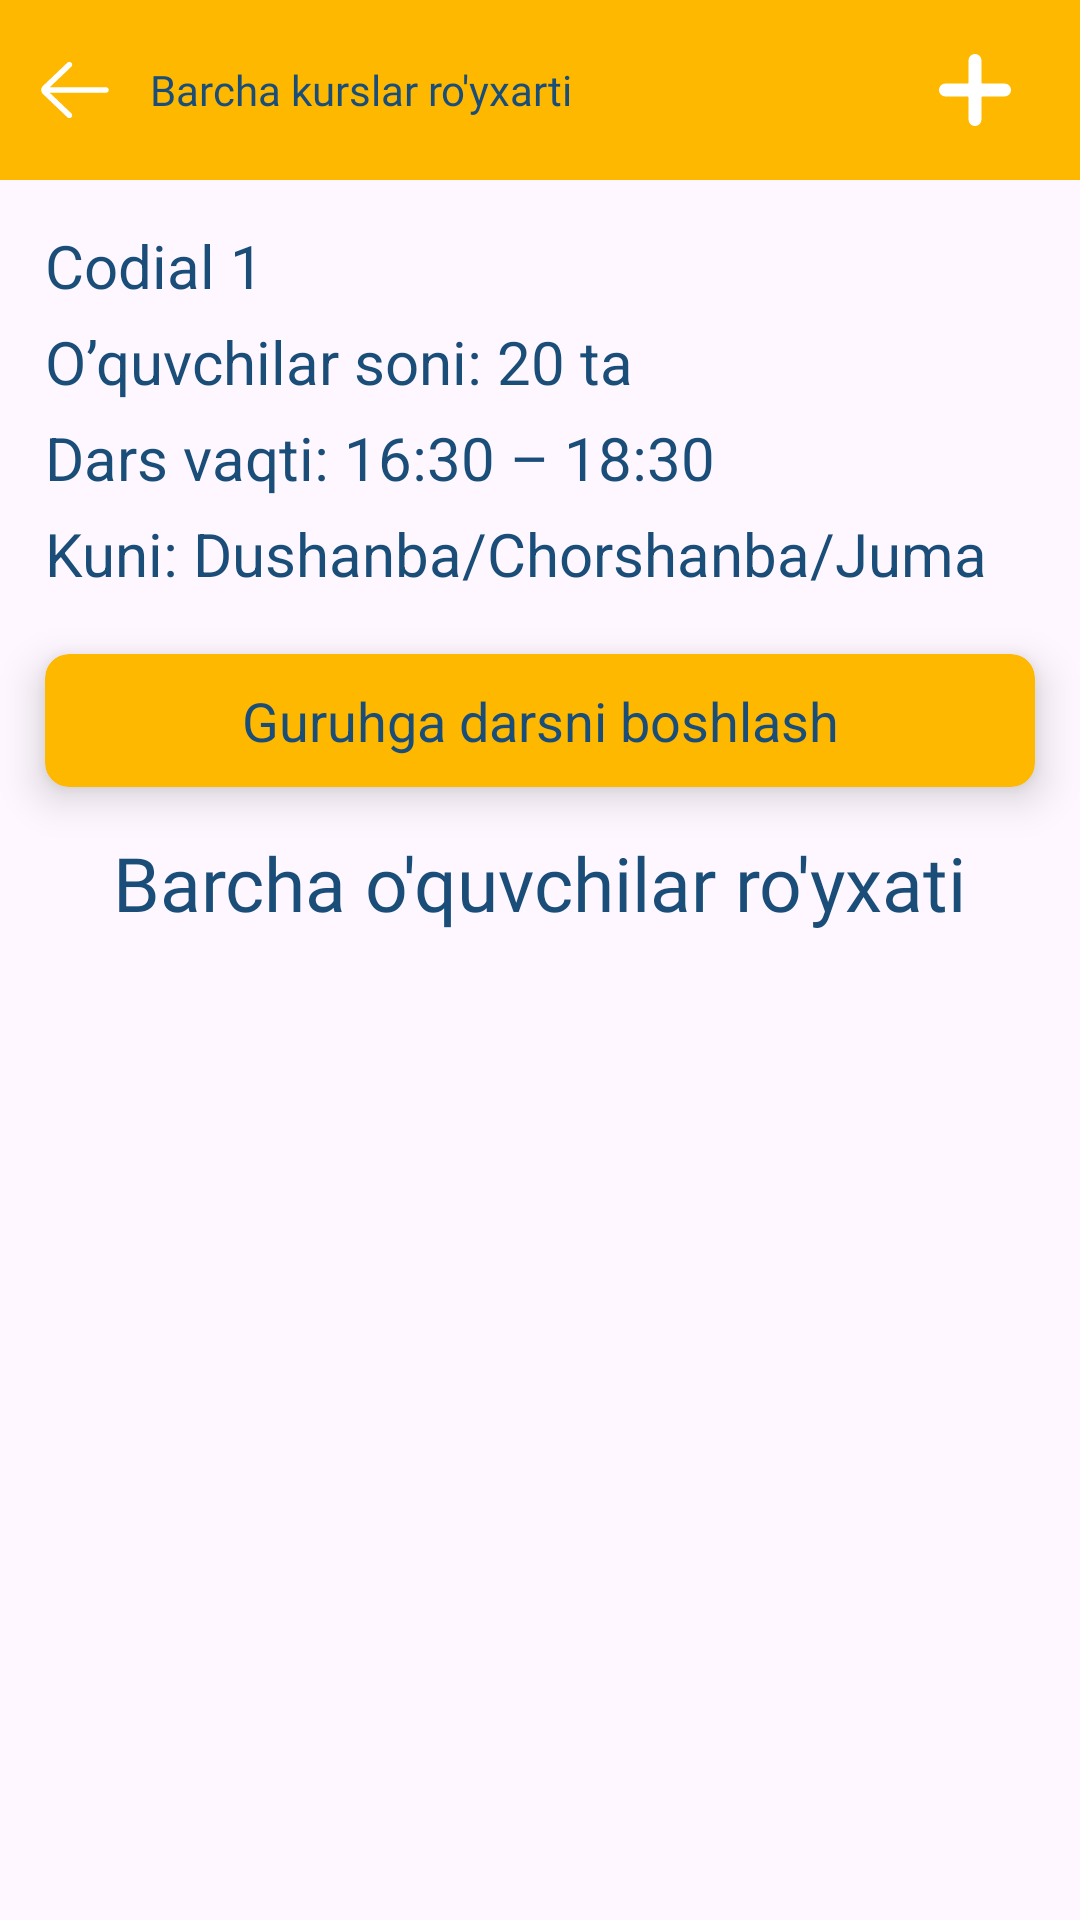

Icon bounding boxes for this 1080×1920 phone screenshot, format region(x1, y1, x2, y2):
add: region(939, 54, 1011, 126)
back: region(41, 62, 109, 118)
